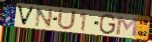1: (79, 12, 88, 32)
G: (98, 13, 118, 36)
M: (115, 15, 139, 38)
N: (34, 7, 55, 29)
U: (56, 8, 77, 31)
V: (16, 4, 36, 27)
